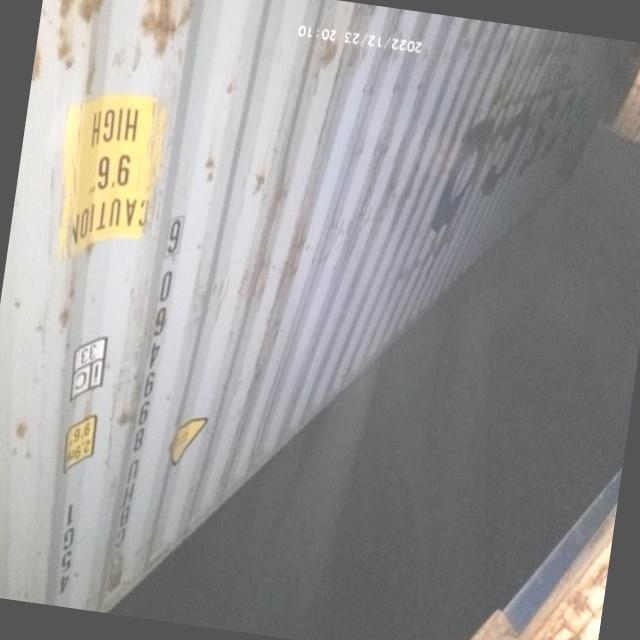rust: (134, 1, 193, 47), (72, 1, 109, 26)
